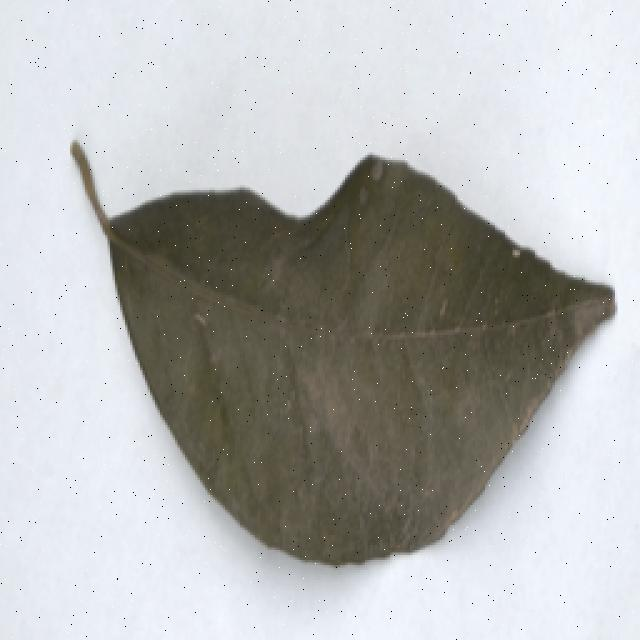healthy: (61, 128, 618, 574)
